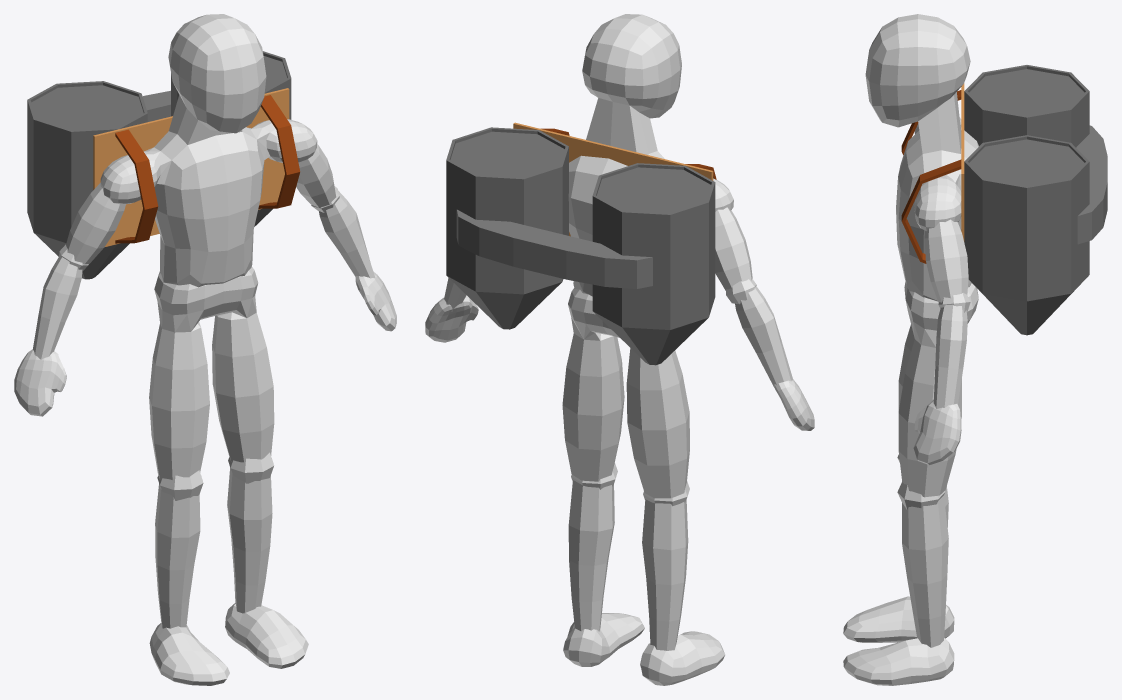
The model's file is Player_jetpack.fbx.
3 views of the same model, side by side, from view 1: azimuth 30°, elevation 25°; view 2: azimuth 150°, elevation 25°; view 3: azimuth 270°, elevation 25° (orthographic).
Parts seen in each view (by area): view 1: Player, Jetpack; view 2: Player, Jetpack; view 3: Player, Jetpack.
Part boxes in pixels (x1,y1,x2,y2): Player: (14,14,396,685); Jetpack: (27,51,300,279); Player: (425,14,814,685); Jetpack: (446,122,716,365); Player: (843,14,978,685); Jetpack: (901,65,1107,335).
Bounding box in the file's own units: 693 × 1127 × 422.
